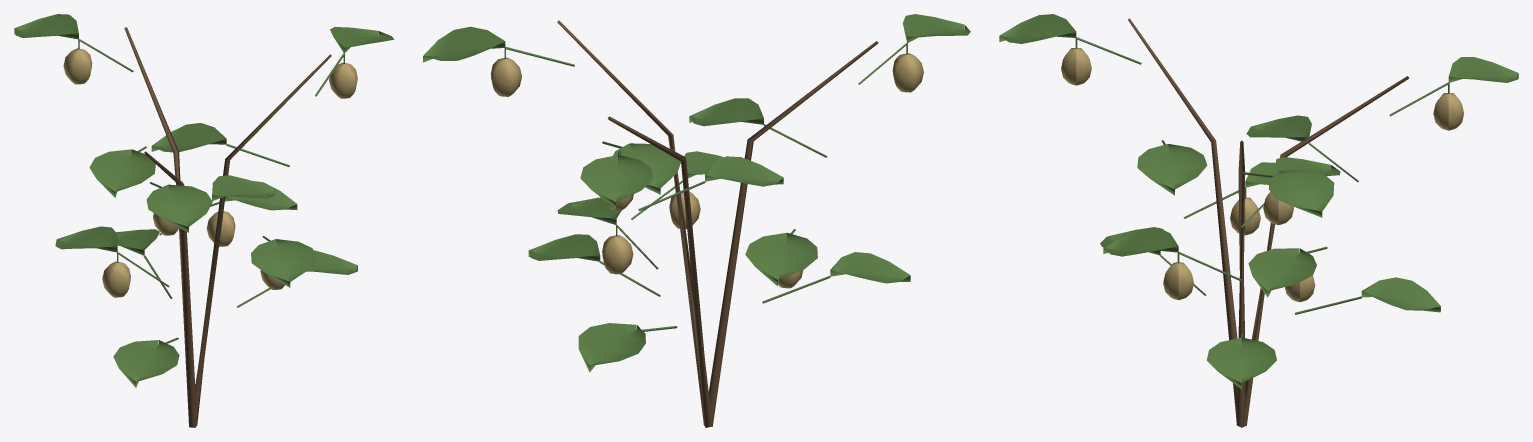
The model's file is uvilla.glb.
3 renders of one model, left to right at view 1: azimuth 30°, elevation 25°; view 2: azimuth 150°, elevation 25°; view 3: azimuth 270°, elevation 25°, orthographic. The views are drawn at different scales.
Visible parts, largest first — view 1: uvilla; view 2: uvilla; view 3: uvilla.
Part boxes in pixels (x1,y1,x2,y2): uvilla: (14, 14, 394, 427); uvilla: (423, 14, 970, 427); uvilla: (999, 14, 1518, 427).
Size of the model in its own units: 1.06 by 0.9399 by 1.24.
